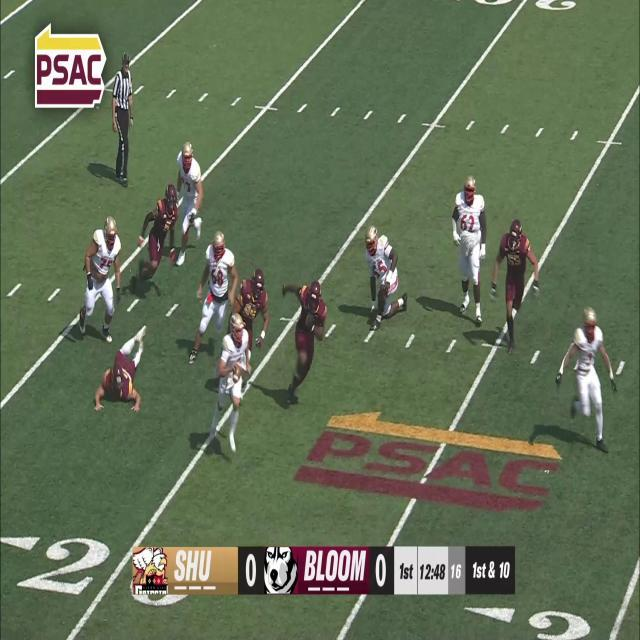football: (232, 363, 242, 383)
